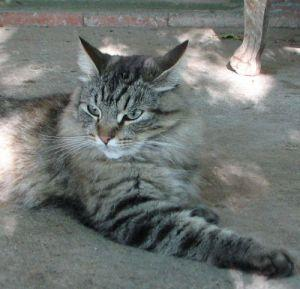bengal: (65, 32, 192, 165)
